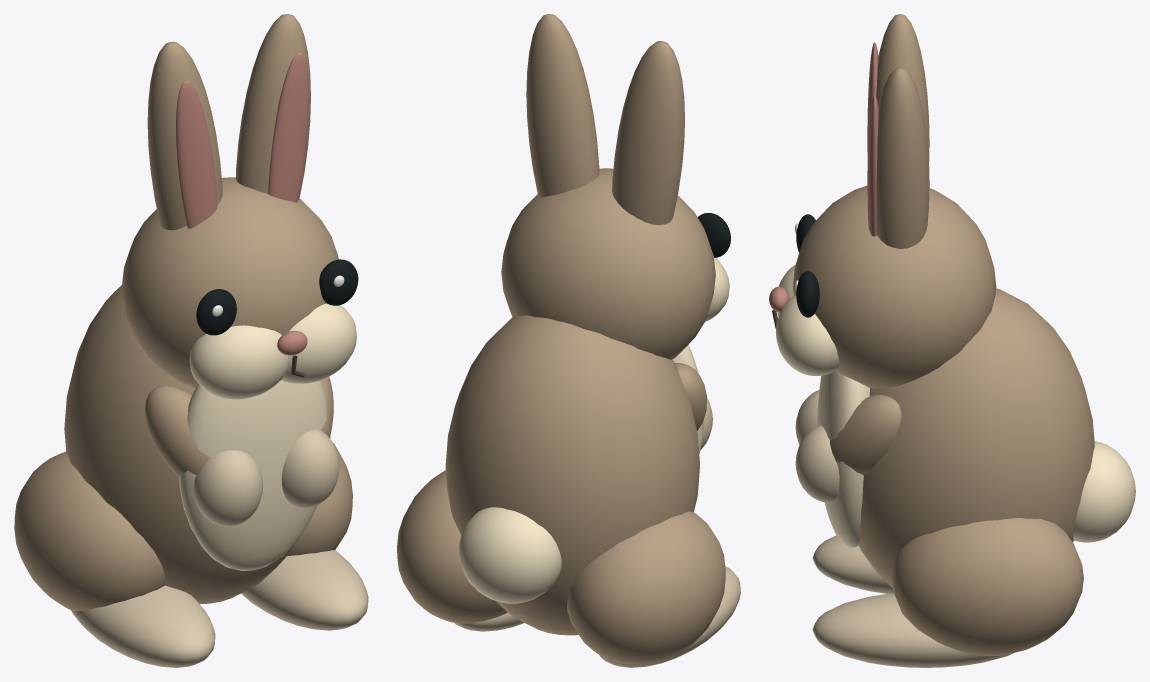
The model's file is konijn_staand.glb.
The picture shows the model from 3 angles, left to right: view 1: azimuth 30°, elevation 25°; view 2: azimuth 150°, elevation 25°; view 3: azimuth 270°, elevation 25°; orthographic projection. The views are drawn at different scales.
Visible parts, largest first — view 1: Rabbit_head, Rabbit_body, Rabbit_cream_chest, Rabbit_hind_leg, Long_hind_paw, Long_hind_paw.001, Rabbit_ear, Rabbit_ear.001, Rabbit_cheek, Rabbit_pink_ear, Rabbit_pink_ear.001, Little_front_paw (+7 smaller); view 2: Rabbit_body, Rabbit_head, Rabbit_hind_leg, Rabbit_ear, Rabbit_ear.001, Rabbit_hind_leg.001, Rabbit_tail, Long_hind_paw, Little_front_arm, Eye.004, Rabbit_cheek, Long_hind_paw.001; view 3: Rabbit_body, Rabbit_head, Rabbit_hind_leg.001, Rabbit_ear.001, Long_hind_paw.001, Rabbit_cream_chest, Rabbit_tail, Little_front_arm.001, Rabbit_cheek.001, Rabbit_ear, Little_front_paw.001, Long_hind_paw (+4 smaller).
Boxes of the visible parts, box(x1,y1,x2,y2) form: Rabbit_head: box(122, 177, 338, 388); Rabbit_body: box(64, 285, 293, 603); Rabbit_cream_chest: box(179, 380, 330, 570); Rabbit_hind_leg: box(14, 451, 164, 610); Long_hind_paw: box(71, 585, 215, 667); Long_hind_paw.001: box(241, 550, 368, 630); Rabbit_ear: box(147, 41, 222, 230); Rabbit_ear.001: box(235, 14, 310, 199); Rabbit_cheek: box(189, 325, 288, 399); Rabbit_pink_ear: box(176, 80, 217, 228); Rabbit_pink_ear.001: box(268, 52, 309, 202); Little_front_paw: box(193, 450, 263, 526); Rabbit_body: box(445, 315, 699, 635); Rabbit_head: box(501, 168, 715, 359); Rabbit_hind_leg: box(567, 511, 725, 664); Rabbit_ear: box(612, 41, 684, 224); Rabbit_ear.001: box(526, 14, 599, 196); Rabbit_hind_leg.001: box(397, 470, 507, 623); Rabbit_tail: box(458, 507, 561, 603); Long_hind_paw: box(599, 566, 740, 667); Little_front_arm: box(675, 363, 706, 430); Eye.004: box(697, 213, 730, 257); Rabbit_cheek: box(705, 257, 729, 321); Long_hind_paw.001: box(454, 613, 523, 631); Rabbit_body: box(859, 288, 1094, 587); Rabbit_head: box(792, 185, 996, 388); Rabbit_hind_leg.001: box(891, 518, 1083, 656); Rabbit_ear.001: box(876, 67, 929, 248); Long_hind_paw.001: box(812, 593, 1013, 667); Rabbit_cream_chest: box(817, 371, 869, 547); Rabbit_tail: box(1073, 441, 1135, 542); Little_front_arm.001: box(830, 395, 901, 475); Rabbit_cheek.001: box(775, 295, 839, 375); Rabbit_ear: box(876, 14, 929, 161); Little_front_paw.001: box(795, 425, 839, 502); Long_hind_paw: box(812, 535, 893, 593).
Size of the model in its own units: 0.6 by 1.14 by 0.649.
